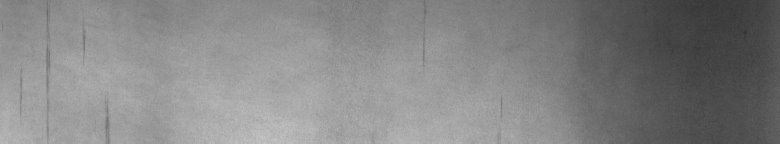ka: (20, 9, 112, 136)
